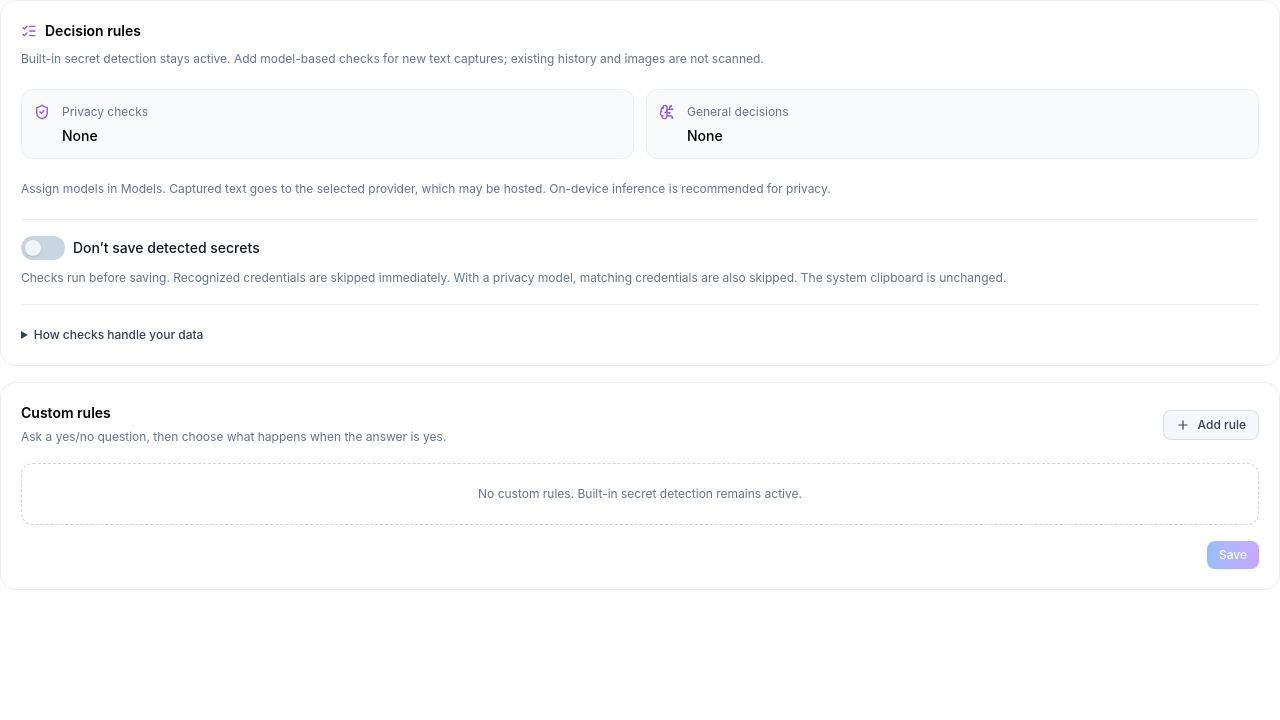
it: focuses new rules, validates drafts, and preserves them when saving fails
Click the button "Add rule" at [1211, 425], box [1163,410,1259,440]
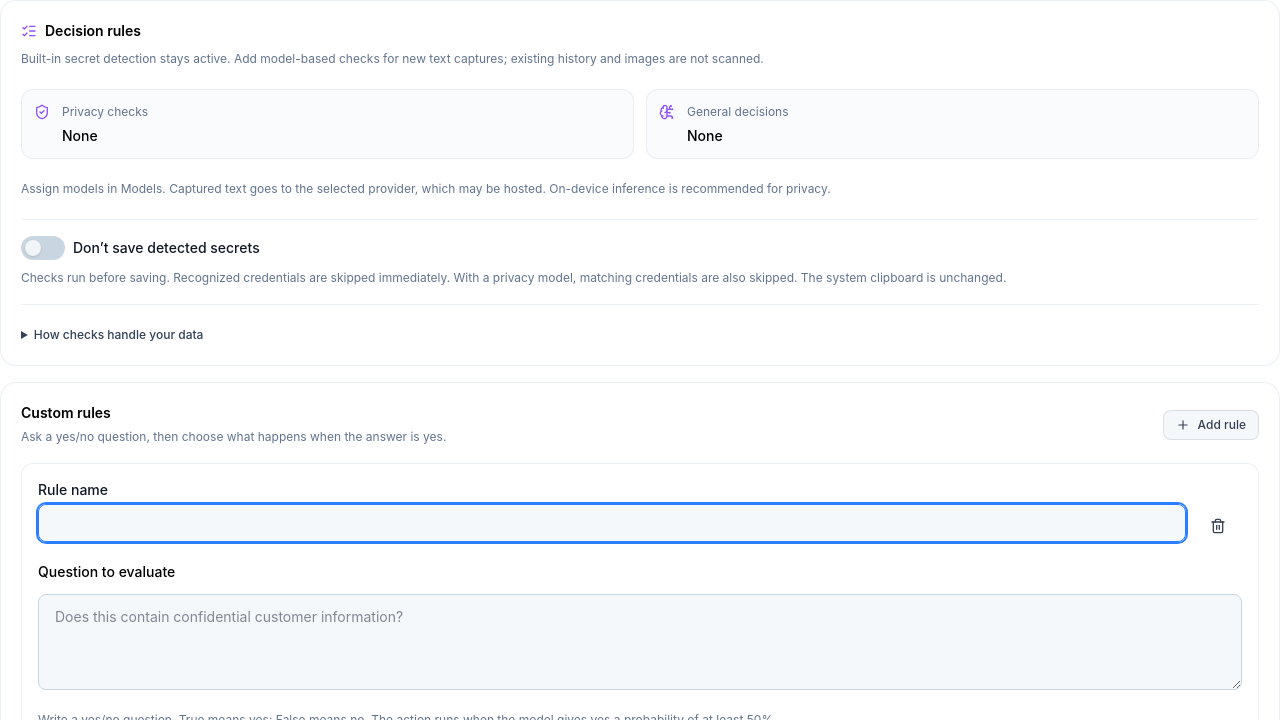
Type "Private" into the field labelled "Rule name" at [612, 523], box [38,504,1186,542]
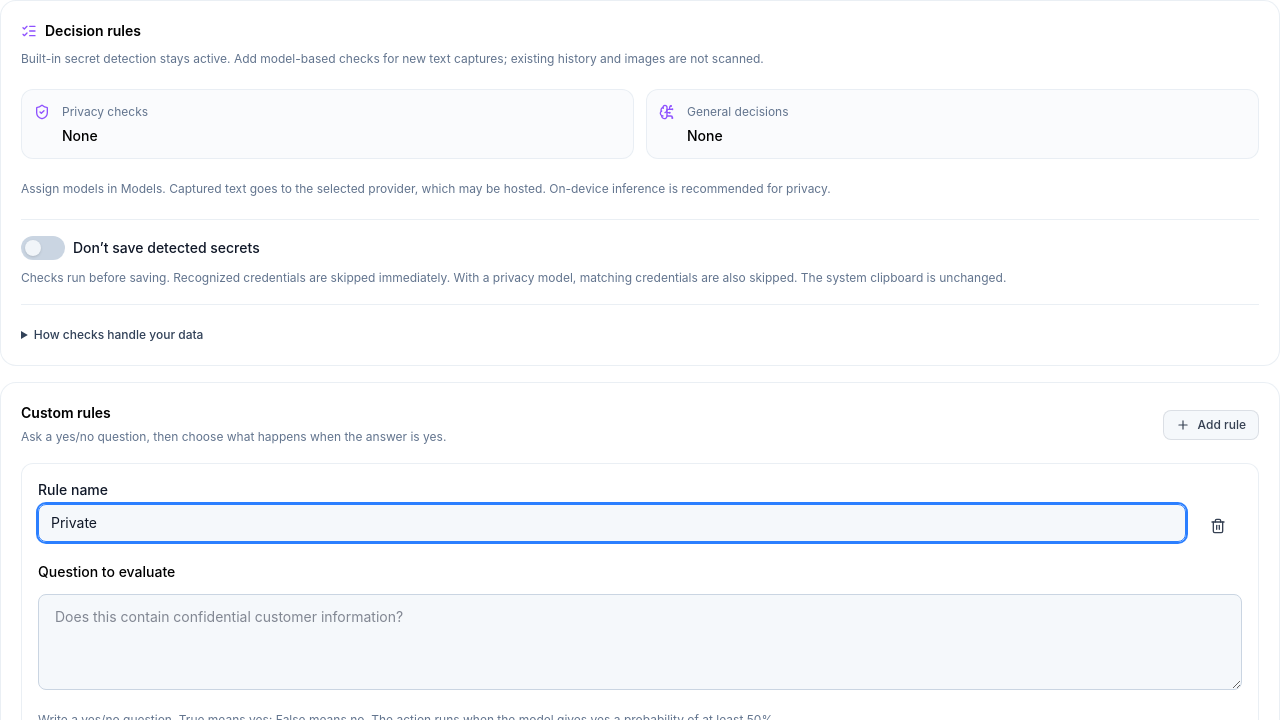
Type "Is this confidential?" into the text box labelled "Question to evaluate" at [640, 642], box [38,594,1242,690]
(page scrolled)
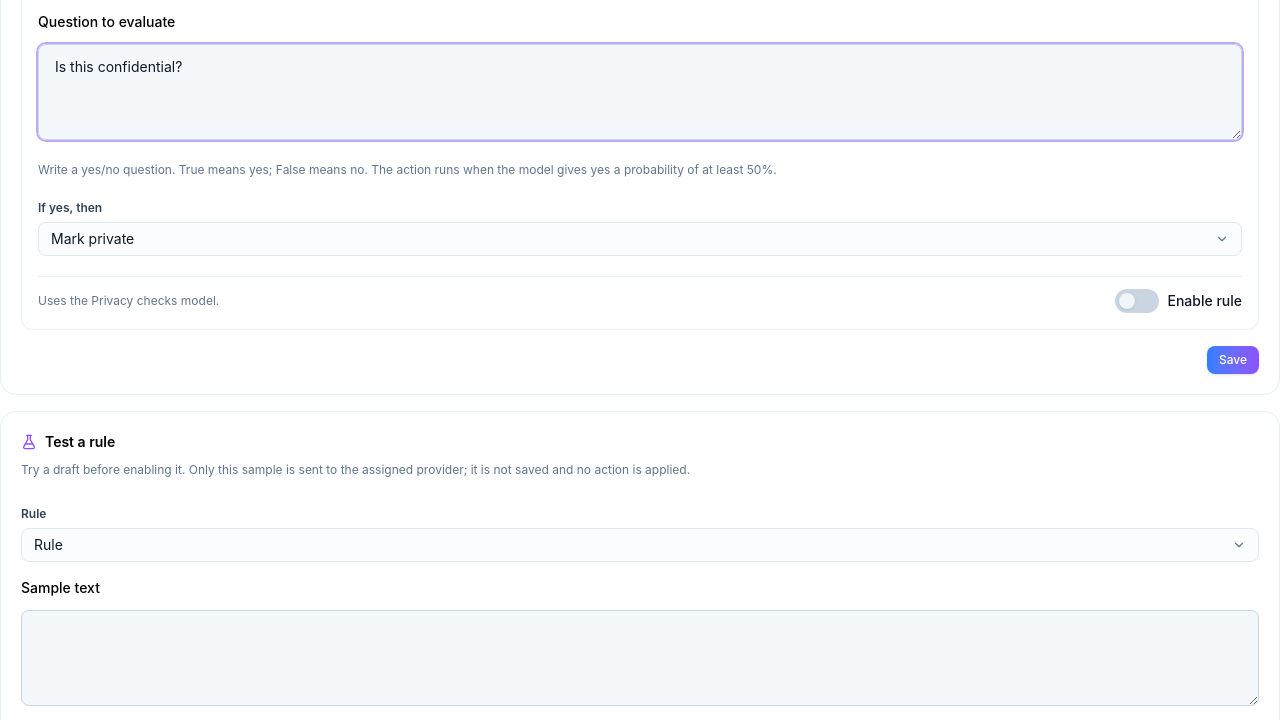
Click the button "Save" at [1233, 360], box [1207,346,1259,374]
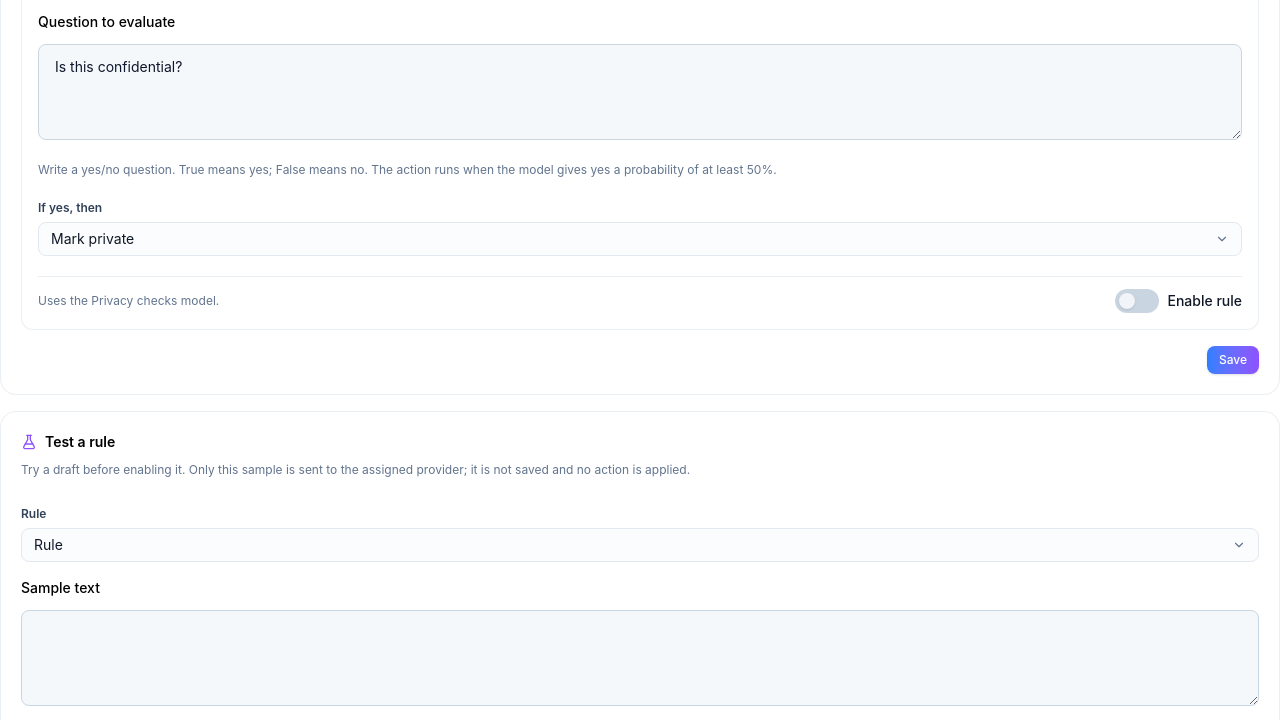
Click the button "Save" at [1233, 360], box [1207,346,1259,374]
(page scrolled)
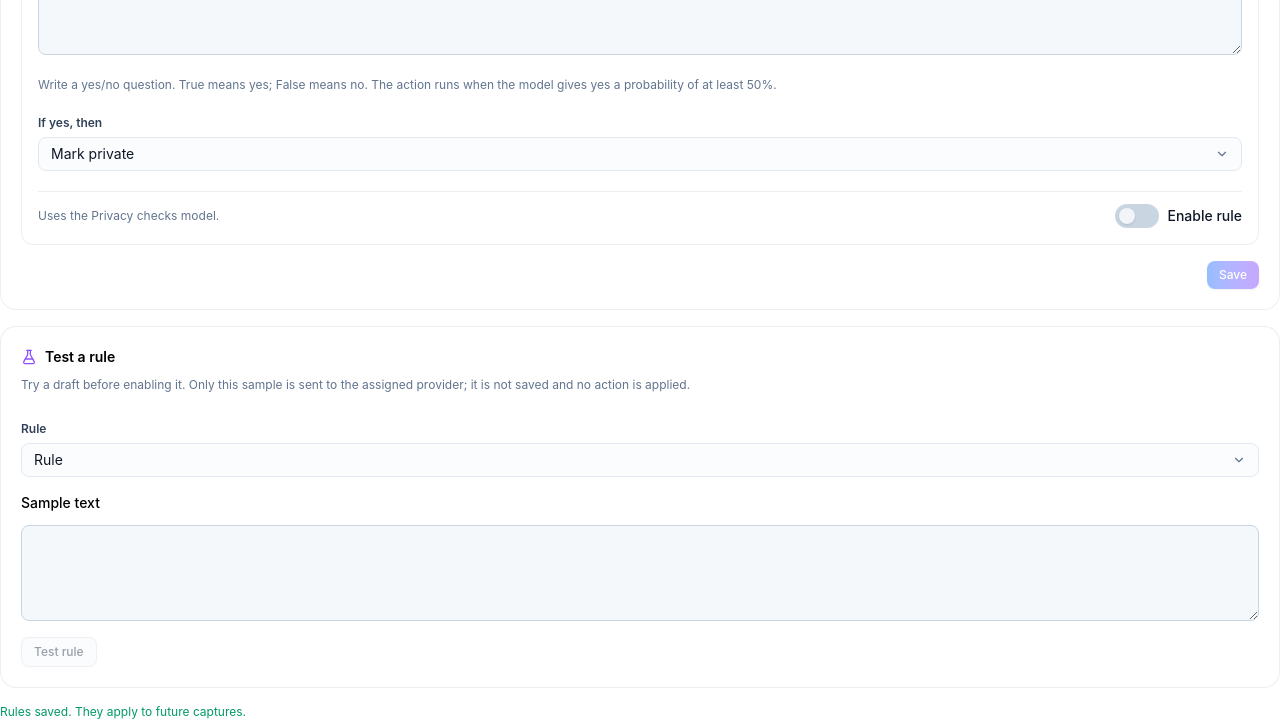
Expected: the message shows "Rules saved", [0,704,246,719]
